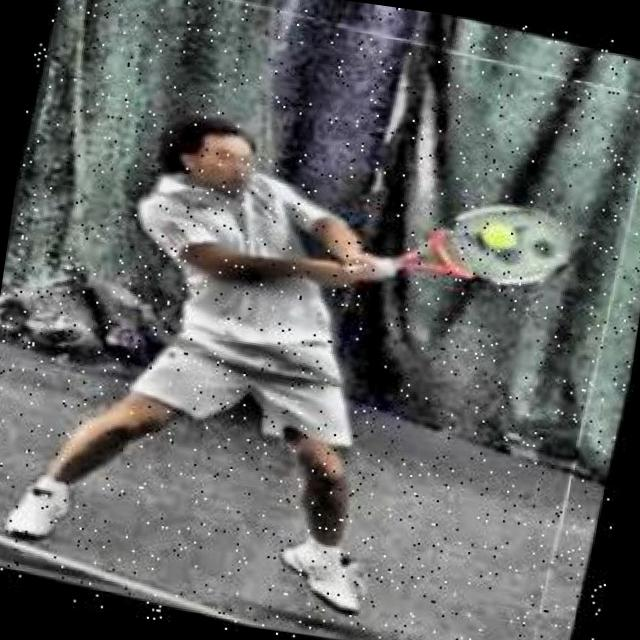Tennis Ball: (482, 224, 516, 252)
